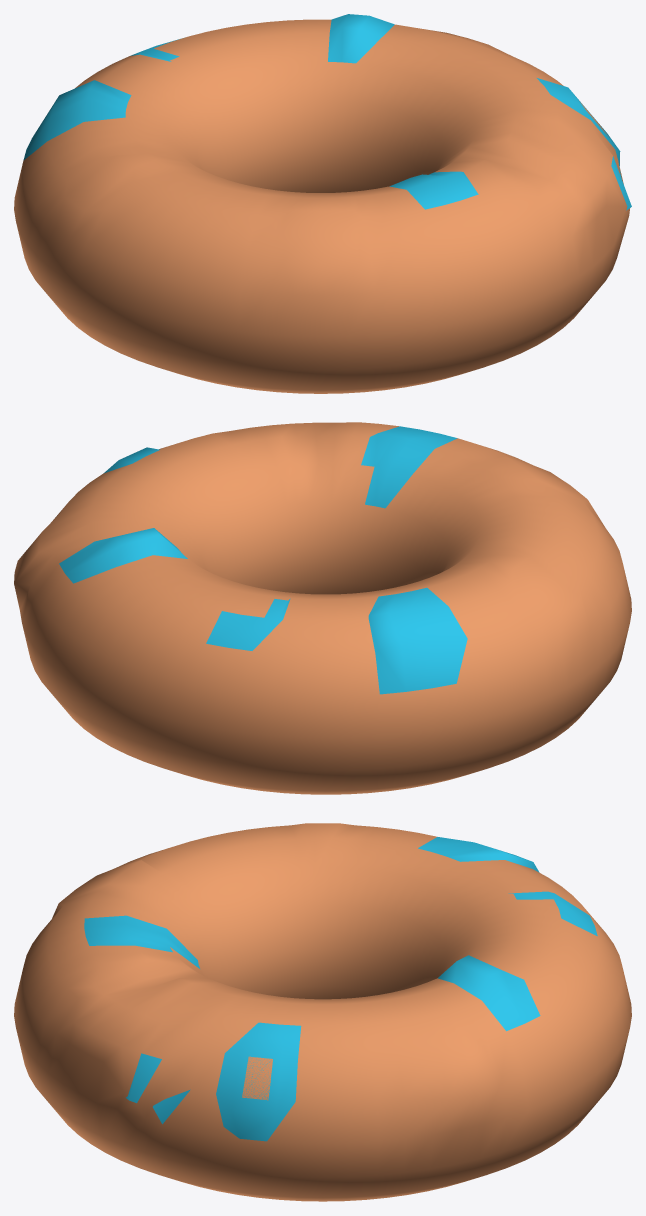
The model's file is donut.glb.
The picture shows the model from 3 angles, top to bottom: view 1: azimuth 30°, elevation 25°; view 2: azimuth 150°, elevation 25°; view 3: azimuth 270°, elevation 25°; orthographic projection.
Visible parts, largest first — view 1: Torus.004, Torus.001; view 2: Torus.004, Torus.001; view 3: Torus.004, Torus.001.
Part boxes in pixels (<box>): Torus.004: <box>14,19,629,393</box>; Torus.001: <box>23,14,631,210</box>; Torus.004: <box>14,422,631,794</box>; Torus.001: <box>59,426,467,694</box>; Torus.004: <box>14,823,631,1201</box>; Torus.001: <box>84,837,597,1141</box>.
Size of the model in its own units: 3.1 by 1.08 by 3.1.
